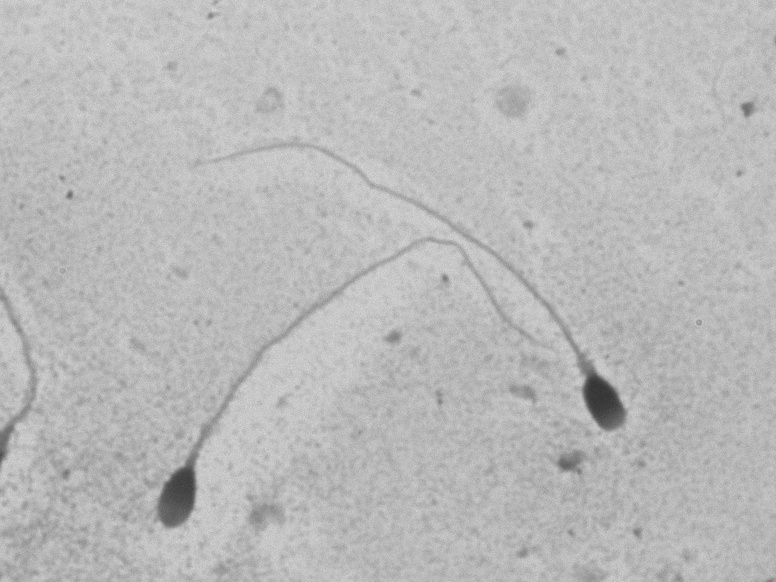Normal: (174, 122, 658, 449), (137, 230, 562, 546)
